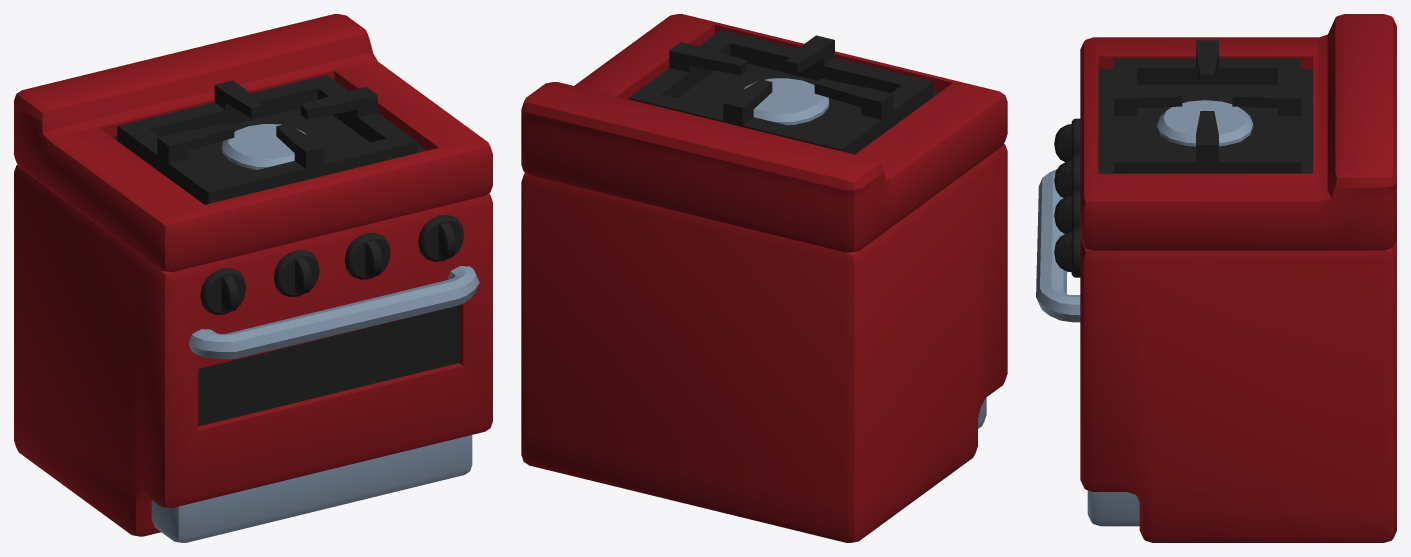
File: Oven.glb
3 renders of one model, left to right at view 1: azimuth 30°, elevation 25°; view 2: azimuth 150°, elevation 25°; view 3: azimuth 270°, elevation 25°, orthographic. The views are drawn at different scales.
Visible parts, largest first — view 1: Environment_Oven; view 2: Environment_Oven; view 3: Environment_Oven.
Part boxes in pixels (left/top/right/bottom): Environment_Oven: left=14, top=14, right=492, bottom=542; Environment_Oven: left=521, top=14, right=1007, bottom=542; Environment_Oven: left=1036, top=14, right=1396, bottom=542.
Size of the model in its own units: 2.14 by 2.23 by 1.96.
1 material, 1 textured.
